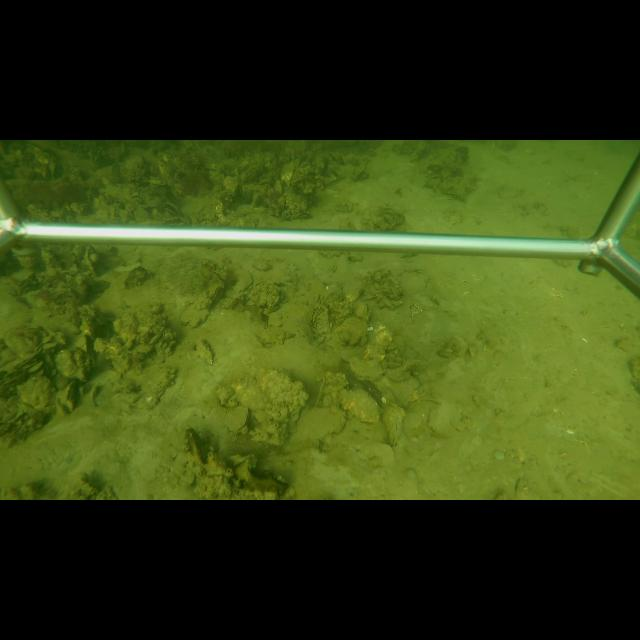Oyster-Closed: (281, 403, 349, 451), (340, 388, 382, 424), (381, 403, 406, 448), (55, 349, 87, 382), (250, 282, 281, 315), (347, 356, 385, 382), (180, 304, 212, 328), (225, 406, 250, 434), (233, 269, 254, 293), (195, 338, 213, 365), (80, 316, 96, 340), (347, 282, 364, 302)
Oyster-Open: (309, 305, 332, 336), (56, 382, 75, 413), (353, 303, 373, 324), (163, 200, 182, 215), (212, 270, 227, 289)
